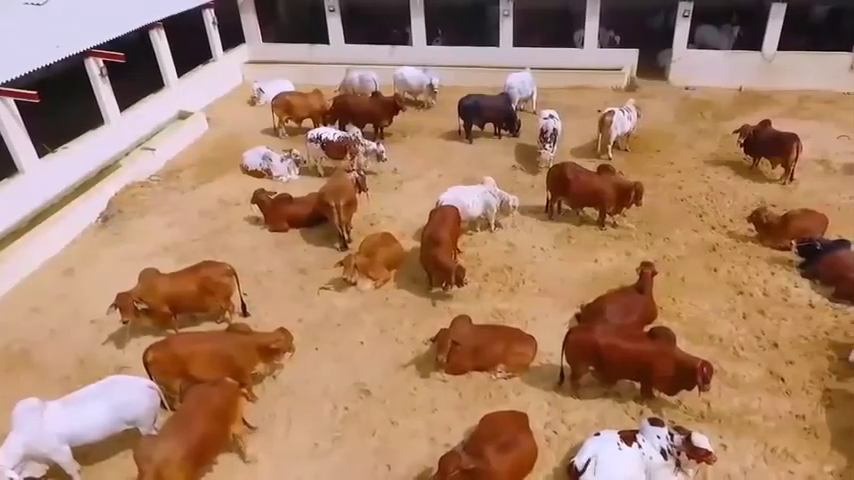bo: (2, 367, 165, 472), (122, 377, 282, 477), (560, 323, 717, 403), (140, 319, 295, 400), (112, 253, 248, 329), (414, 310, 549, 386), (560, 418, 721, 480), (421, 401, 544, 479), (553, 246, 666, 330), (542, 155, 647, 240), (411, 210, 494, 295), (326, 218, 415, 296), (724, 109, 811, 185), (240, 172, 326, 242), (296, 124, 397, 179), (435, 171, 522, 233), (740, 192, 826, 252), (586, 95, 662, 162), (313, 166, 375, 245), (448, 89, 523, 154), (332, 88, 413, 144), (797, 230, 854, 305), (235, 137, 309, 191), (687, 11, 750, 59), (498, 59, 543, 122), (268, 90, 335, 131), (520, 108, 563, 167), (390, 59, 446, 104), (568, 17, 626, 59), (242, 65, 293, 109), (332, 60, 381, 101)
